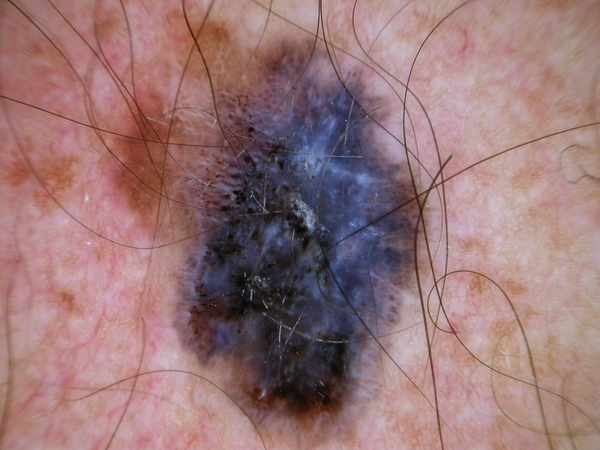Detected Lesion: (153, 38, 422, 416)
